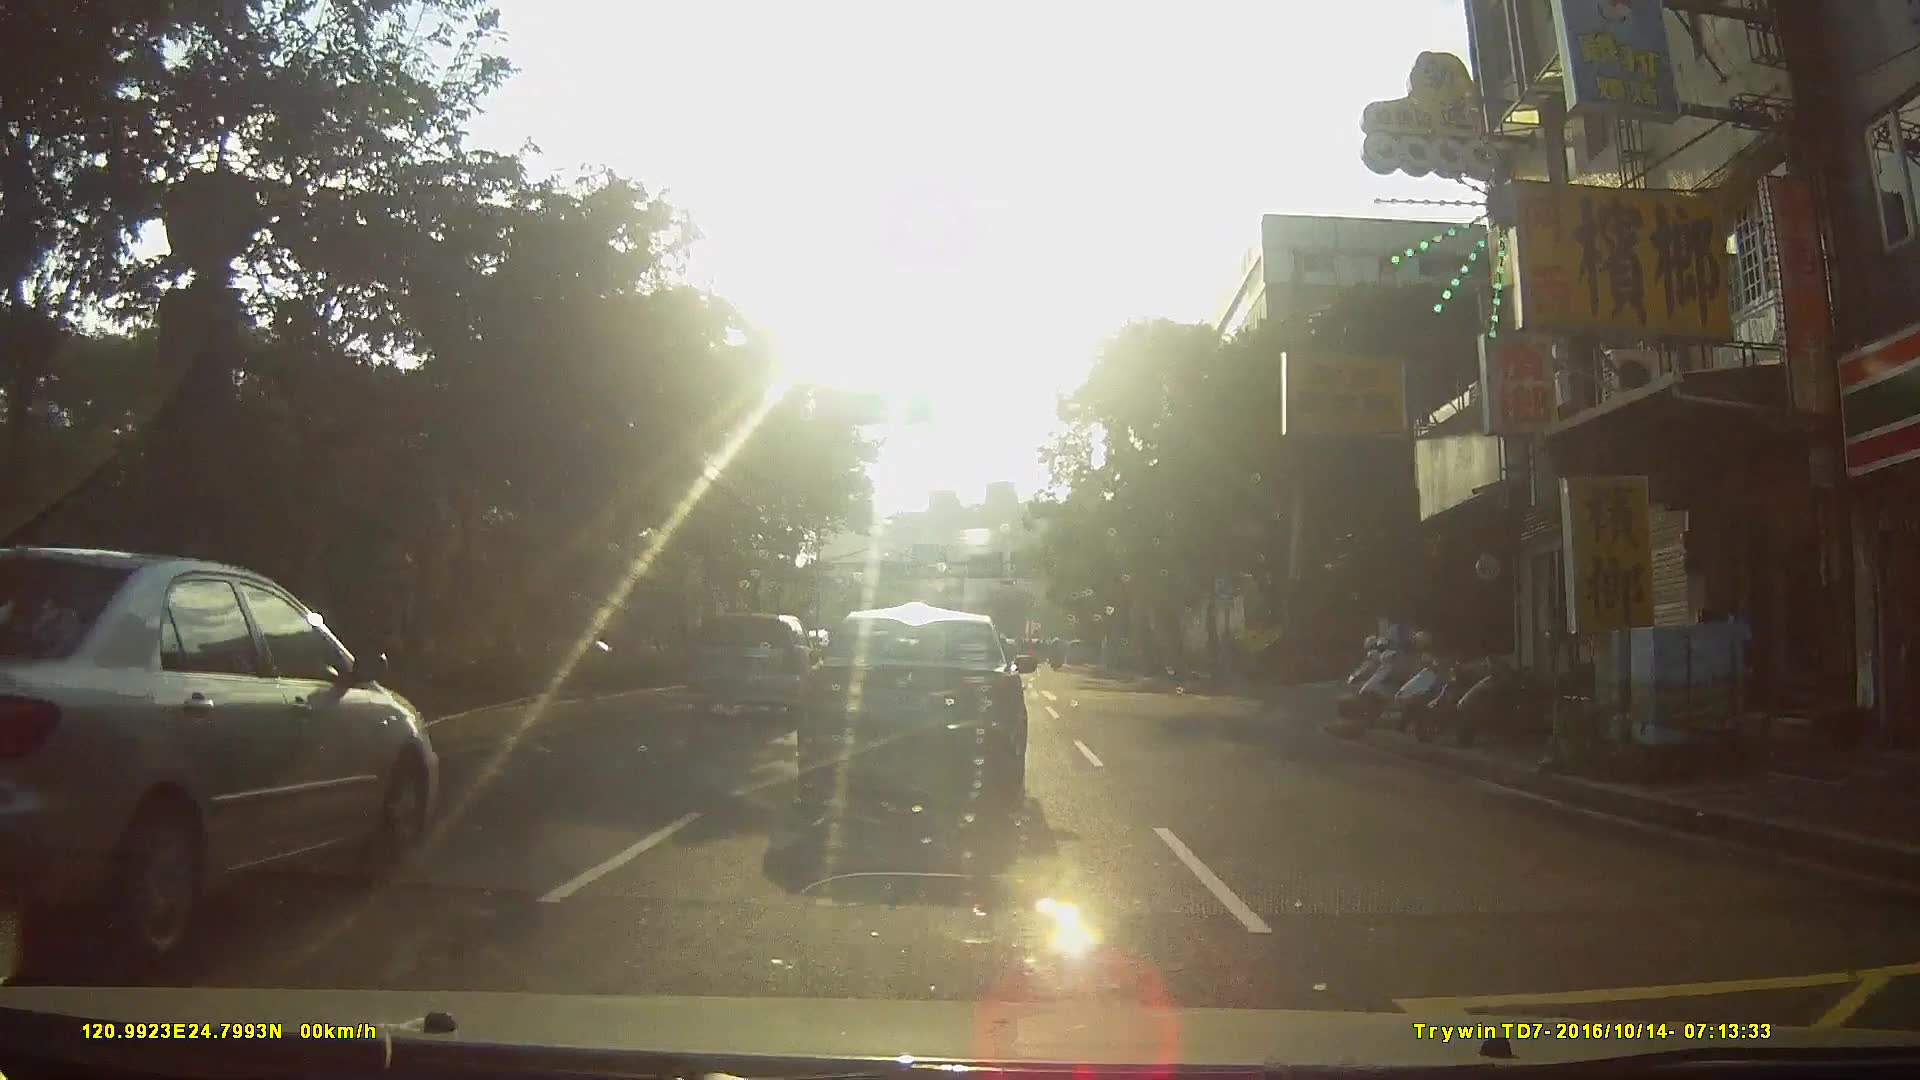pedestrian: (1691, 587, 1758, 740)
vehicle: (1, 544, 462, 965), (806, 602, 1053, 817), (689, 611, 822, 722), (1064, 635, 1097, 665)
